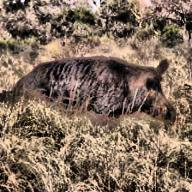boar: (19, 44, 181, 132)
